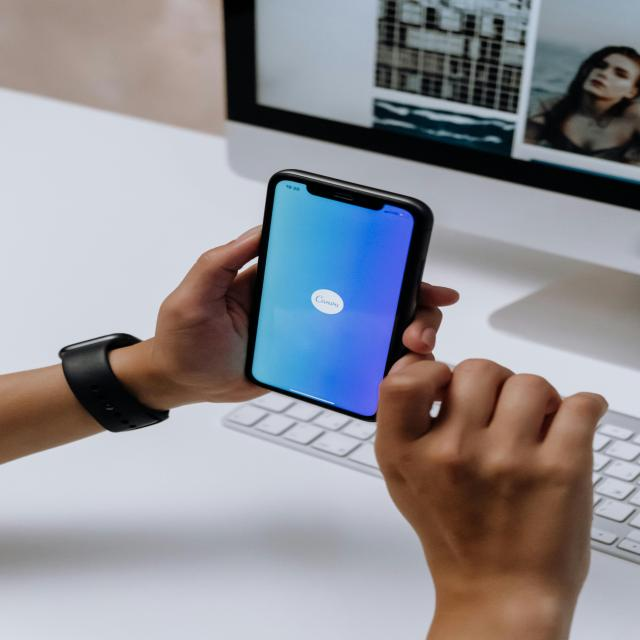Mobile: (243, 161, 442, 427)
